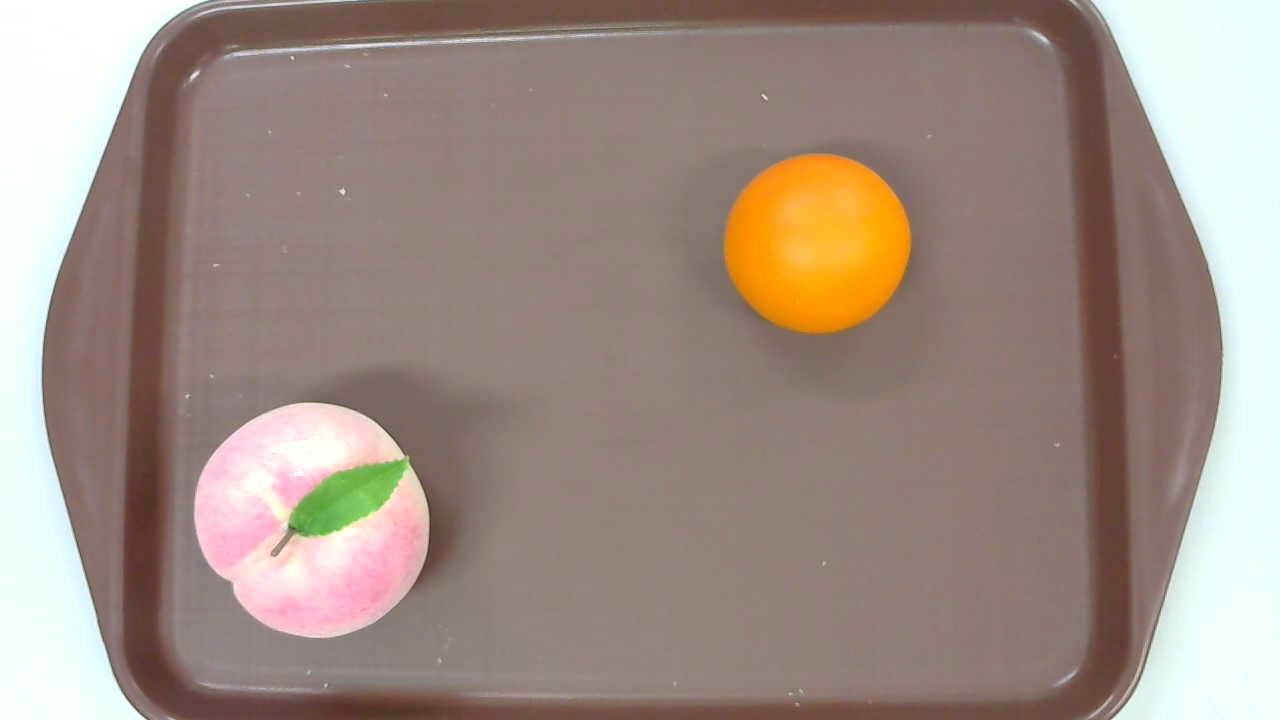bun: (723, 153, 910, 333)
peach: (192, 403, 429, 640)
